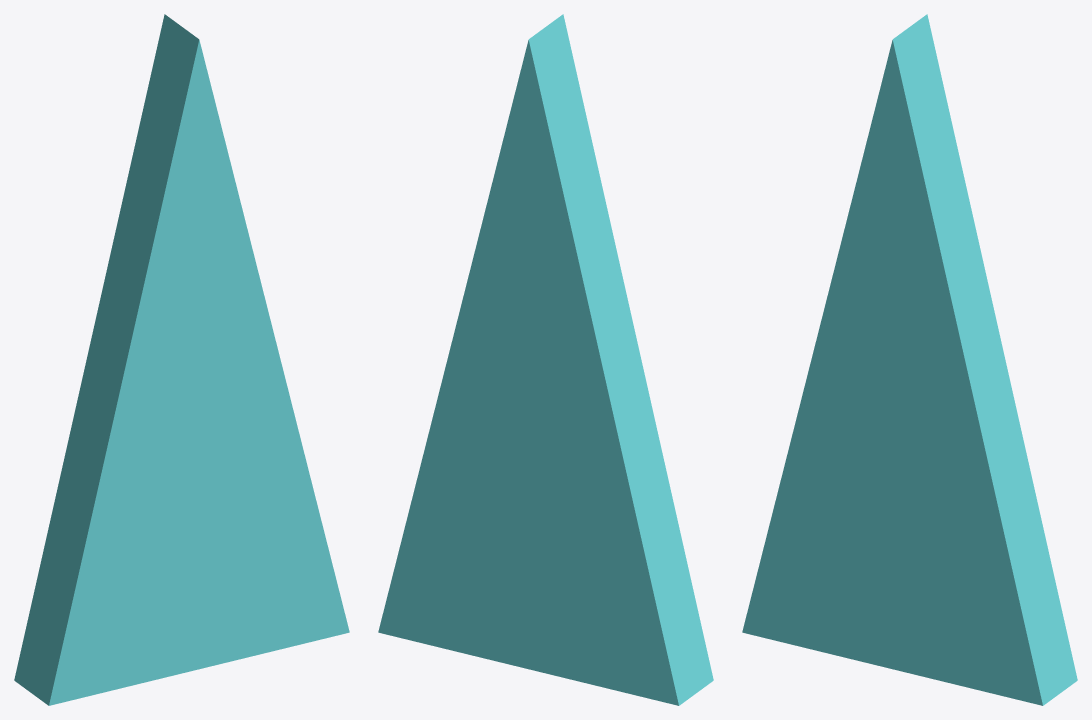
File: arrow.gltf
3 views of the same model, side by side, from view 1: azimuth 30°, elevation 25°; view 2: azimuth 150°, elevation 25°; view 3: azimuth 330°, elevation 25° (orthographic).
Parts seen in each view (by area): view 1: ArrowNode; view 2: ArrowNode; view 3: ArrowNode.
Part boxes in pixels (<box>): ArrowNode: <box>14,14,349,705</box>; ArrowNode: <box>378,14,713,705</box>; ArrowNode: <box>742,14,1077,705</box>.
Size of the model in its own units: 0.5 by 1 by 0.1.
